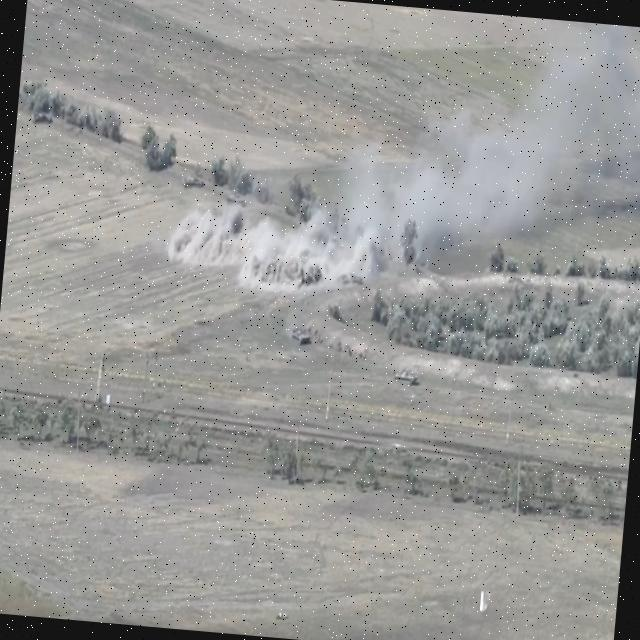AIFV: (29, 107, 58, 131), (393, 364, 422, 387), (337, 268, 366, 289), (289, 325, 313, 349), (181, 173, 206, 195), (226, 191, 249, 213)
